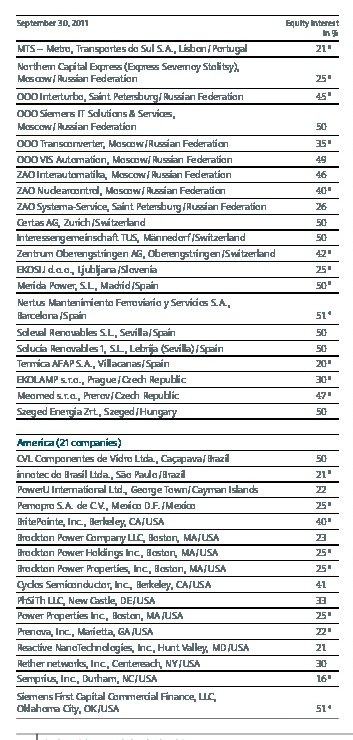table: (0, 0, 353, 740)
